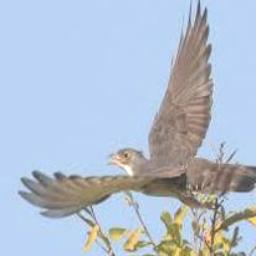Cuckoo: (19, 0, 256, 215)
